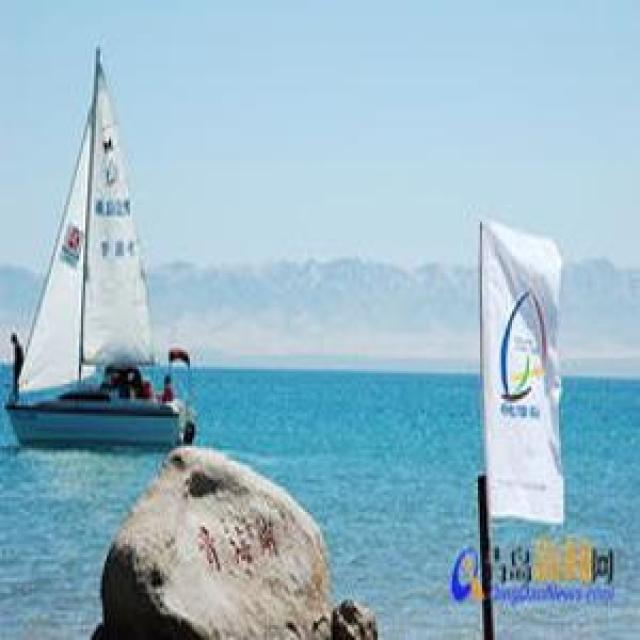sailboat: (3, 33, 211, 446)
